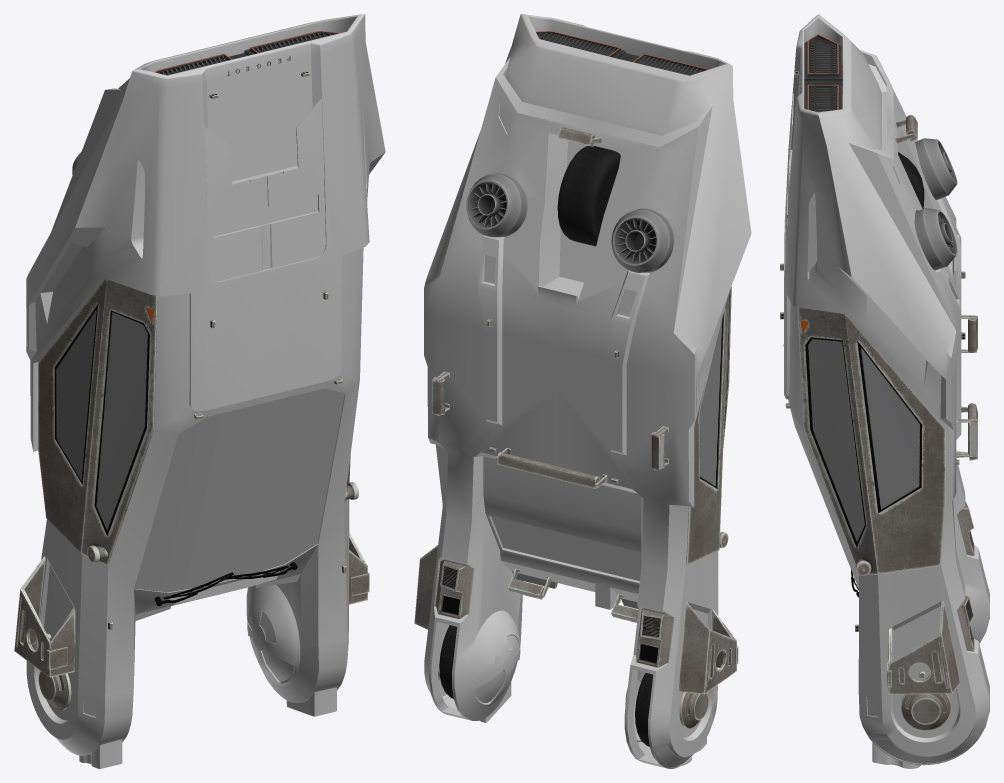
Rendered from zimCreateArchive_2049OBJ.obj.
3 views of the same model, side by side, from view 1: azimuth 30°, elevation 25°; view 2: azimuth 150°, elevation 25°; view 3: azimuth 270°, elevation 25° (orthographic). The views are drawn at different scales.
Visible parts, largest first — view 1: 3DGeom~1, 3DGeom~5, 3DGeom~19, 3DGeom~21, wheelcocer_01, 3DGeom~13, wheelcocer, hub_01, Object_Combined_11; view 2: 3DGeom~1, rearwheel, 3DGeom~19, 3DGeom~5, wheelcocer_01, ReaThruster_01, ReaThruster, 3DGeom~21, frontthruster, frontthruster_01, 3DGeom~13, 3DGeom~27 (+5 smaller); view 3: 3DGeom~1, 3DGeom~6, 3DGeom~8, wheelcocer, 3DGeom~13, ReaThruster, ReaThruster_01, hub, 3DGeom~3, frontthruster, frontthruster_01, rearwheel (+3 smaller).
Part boxes in pixels (left/top/right/bottom): 3DGeom~1: left=26, top=14, right=385, bottom=768; 3DGeom~5: left=134, top=388, right=344, bottom=592; 3DGeom~19: left=38, top=278, right=157, bottom=565; 3DGeom~21: left=54, top=304, right=149, bottom=535; wheelcocer_01: left=14, top=556, right=75, bottom=677; 3DGeom~13: left=156, top=31, right=338, bottom=75; wheelcocer: left=349, top=531, right=369, bottom=604; hub_01: left=38, top=633, right=71, bottom=710; Object_Combined_11: left=154, top=562, right=297, bottom=606; 3DGeom~1: left=424, top=14, right=751, bottom=768; rearwheel: left=557, top=145, right=620, bottom=246; 3DGeom~19: left=686, top=286, right=731, bottom=564; 3DGeom~5: left=491, top=516, right=641, bottom=580; wheelcocer_01: left=678, top=601, right=738, bottom=694; ReaThruster_01: left=611, top=209, right=673, bottom=272; ReaThruster: left=466, top=173, right=527, bottom=237; 3DGeom~21: left=699, top=295, right=729, bottom=488; frontthruster: left=435, top=559, right=473, bottom=618; frontthruster_01: left=636, top=608, right=673, bottom=667; 3DGeom~13: left=536, top=31, right=707, bottom=75; 3DGeom~27: left=496, top=448, right=607, bottom=488; 3DGeom~1: left=784, top=14, right=989, bottom=768; 3DGeom~6: left=797, top=307, right=945, bottom=575; 3DGeom~8: left=805, top=337, right=922, bottom=547; wheelcocer: left=887, top=601, right=959, bottom=694; 3DGeom~13: left=804, top=35, right=842, bottom=112; ReaThruster: left=914, top=208, right=957, bottom=270; ReaThruster_01: left=915, top=138, right=957, bottom=200; hub: left=900, top=671, right=950, bottom=730; 3DGeom~3: left=874, top=729, right=982, bottom=763; frontthruster: left=957, top=595, right=974, bottom=651; frontthruster_01: left=957, top=501, right=974, bottom=555; rearwheel: left=898, top=152, right=924, bottom=208.
Size of the model in its own units: 0.4134 by 0.9002 by 0.2612.
